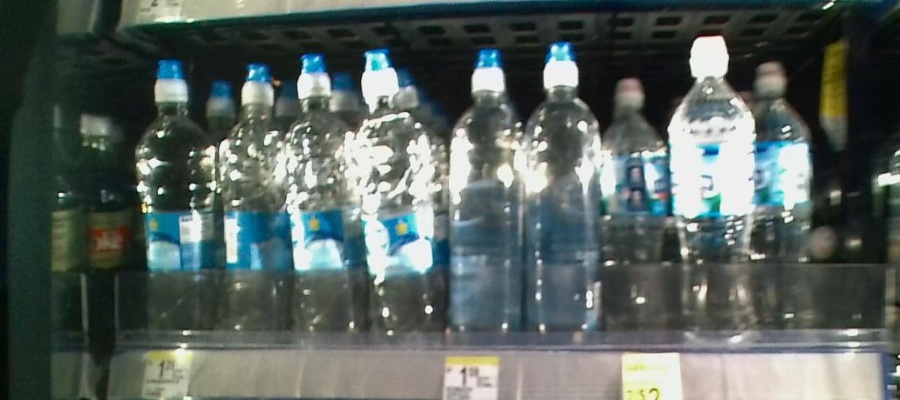bottle: (673, 37, 756, 328), (523, 34, 604, 328), (133, 50, 216, 336), (359, 54, 439, 338), (447, 43, 522, 332), (286, 55, 355, 338), (219, 50, 286, 338), (606, 63, 671, 331), (759, 59, 815, 340)
